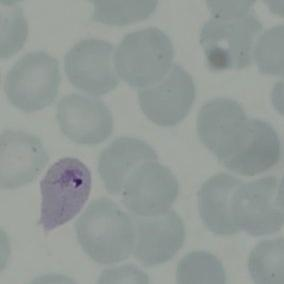Infected: (36, 156, 92, 235)
Uninfected: (218, 116, 283, 177), (75, 197, 131, 262), (139, 61, 194, 127), (116, 26, 173, 88), (6, 51, 61, 115), (128, 206, 184, 264), (57, 91, 114, 146), (98, 138, 154, 192), (121, 161, 178, 213), (234, 177, 284, 235), (64, 38, 116, 93), (196, 96, 247, 152), (0, 130, 48, 189), (198, 173, 242, 235)
